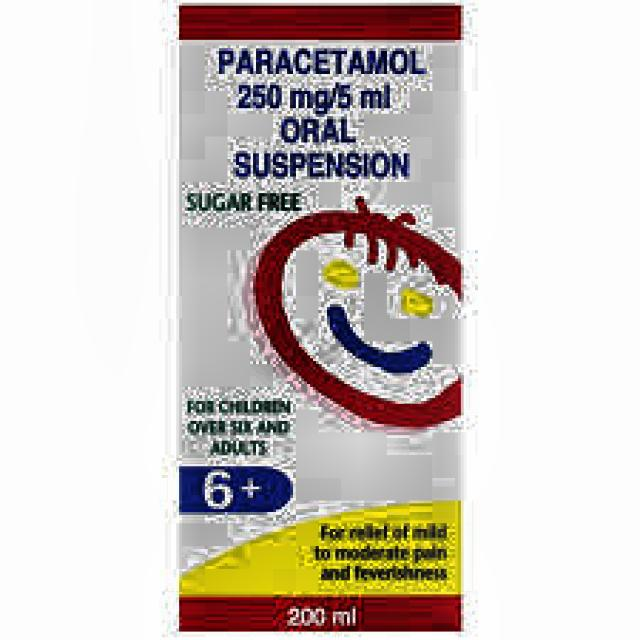Paracetamol: (198, 48, 440, 183)
